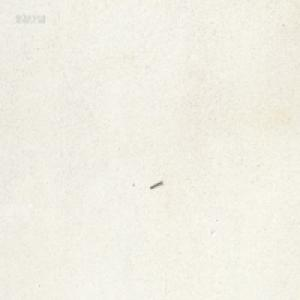Bolt: (148, 179, 162, 189)
